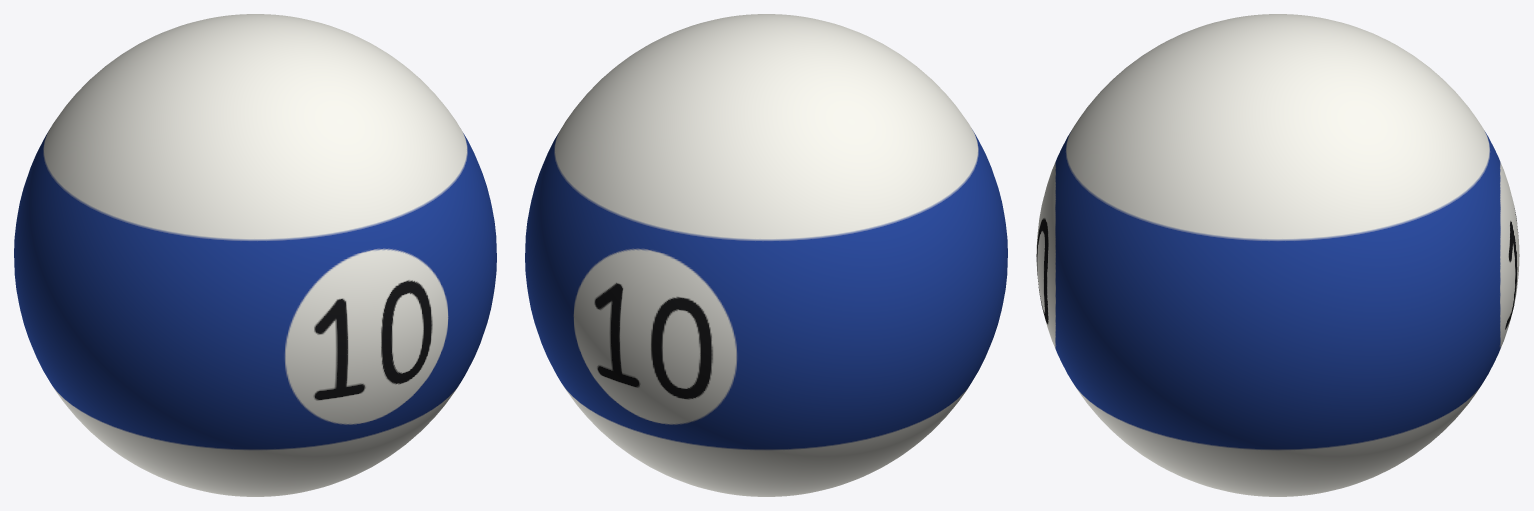
The model's file is ball-10.gltf.
3 renders of one model, left to right at view 1: azimuth 30°, elevation 25°; view 2: azimuth 150°, elevation 25°; view 3: azimuth 270°, elevation 25°, orthographic.
Parts seen in each view (by area): view 1: Ball_10; view 2: Ball_10; view 3: Ball_10.
Part boxes in pixels (box(x1,y1,x2,y2)): Ball_10: box(14, 14, 496, 496); Ball_10: box(525, 14, 1007, 496); Ball_10: box(1036, 14, 1519, 496).
Size of the model in its own units: 0.1 by 0.1 by 0.1.
Materials: 1 (1 with a texture image).
